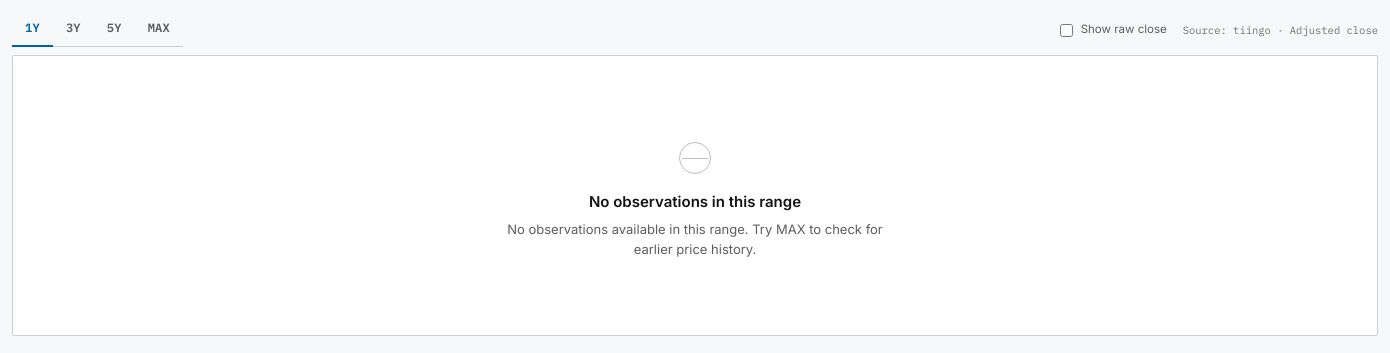
Test: PricePanel › empty history at MAX reports nothing ingested
Click the button "MAX": (159, 30) 135,14 -> 183,46
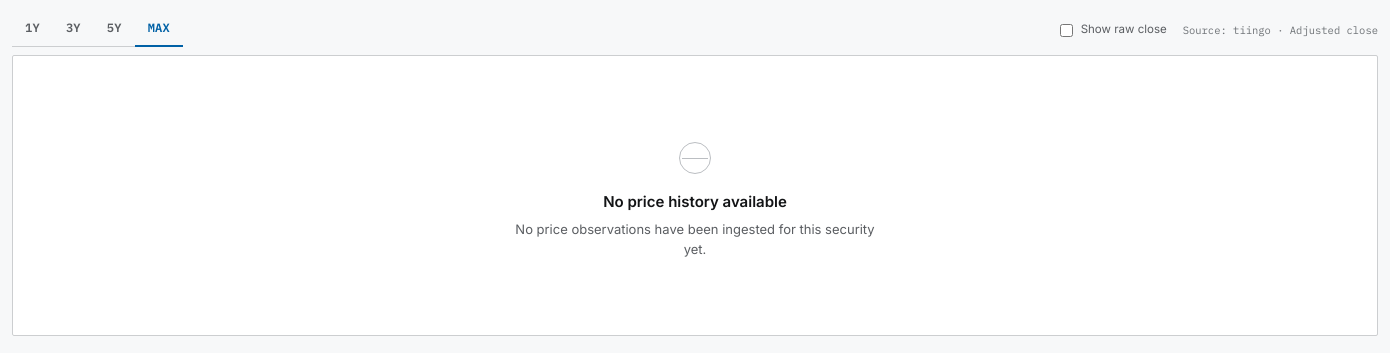
Expected: the text "No price history available" is shown, 603,192 -> 787,211
